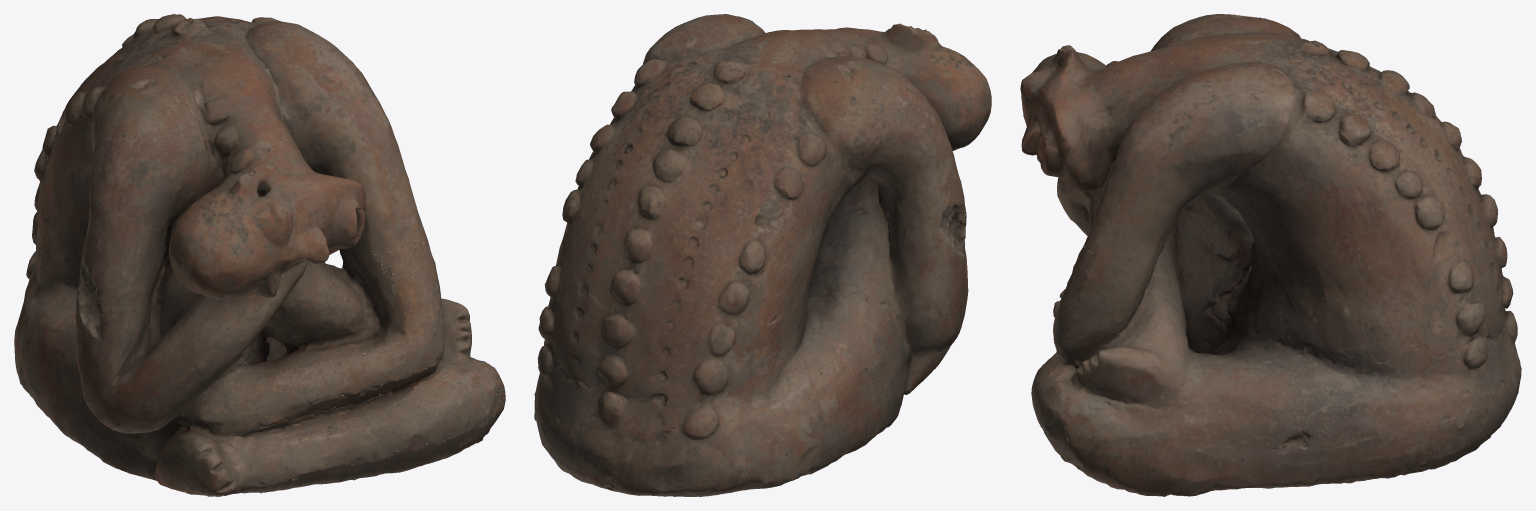
Rendered from seated_figure_middle_niger.glb.
3 views of the same model, side by side, from view 1: azimuth 30°, elevation 25°; view 2: azimuth 150°, elevation 25°; view 3: azimuth 270°, elevation 25° (orthographic). The views are drawn at different scales.
Parts seen in each view (by area): view 1: ADVIMG_1981_218_SeatedFigure_LOD0_ADVIMG_1981_218_SeatedFigu (×2); view 2: ADVIMG_1981_218_SeatedFigure_LOD0_ADVIMG_1981_218_SeatedFigu; view 3: ADVIMG_1981_218_SeatedFigure_LOD0_ADVIMG_1981_218_SeatedFigu (×2).
Part boxes in pixels (x1,y1,x2,y2): ADVIMG_1981_218_SeatedFigure_LOD0_ADVIMG_1981_218_SeatedFigu (×2): (14,14,505,496); ADVIMG_1981_218_SeatedFigure_LOD0_ADVIMG_1981_218_SeatedFigu: (534,14,991,496); ADVIMG_1981_218_SeatedFigure_LOD0_ADVIMG_1981_218_SeatedFigu (×2): (1020,14,1521,496).
Size of the model in its own units: 0.2467 by 0.2548 by 0.3052.
Materials: 2 (2 with a texture image).
